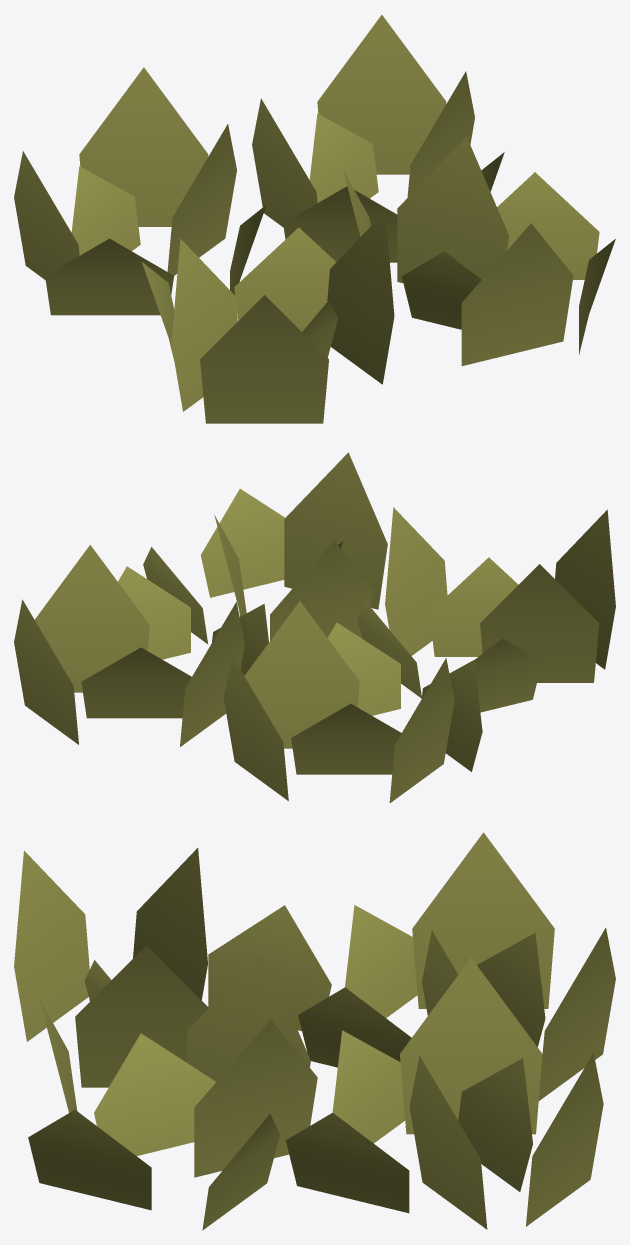
Rendered from herbe-2.glb.
The picture shows the model from 3 angles, top to bottom: view 1: azimuth 30°, elevation 25°; view 2: azimuth 150°, elevation 25°; view 3: azimuth 270°, elevation 25°; orthographic projection. The views are drawn at different scales.
Visible parts, largest first — view 1: grass_leafsLarge; view 2: grass_leafsLarge; view 3: grass_leafsLarge.
Part boxes in pixels (box(x1,y1,x2,y2)): grass_leafsLarge: box(14, 15, 615, 423); grass_leafsLarge: box(14, 452, 615, 803); grass_leafsLarge: box(14, 832, 615, 1230).
Size of the model in its own units: 1.17 by 0.35 by 1.2.
